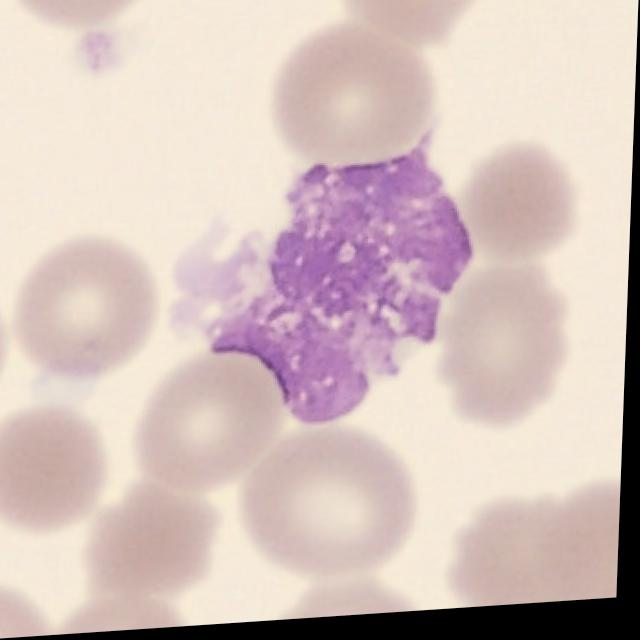Restos celulares: (174, 138, 478, 427)
